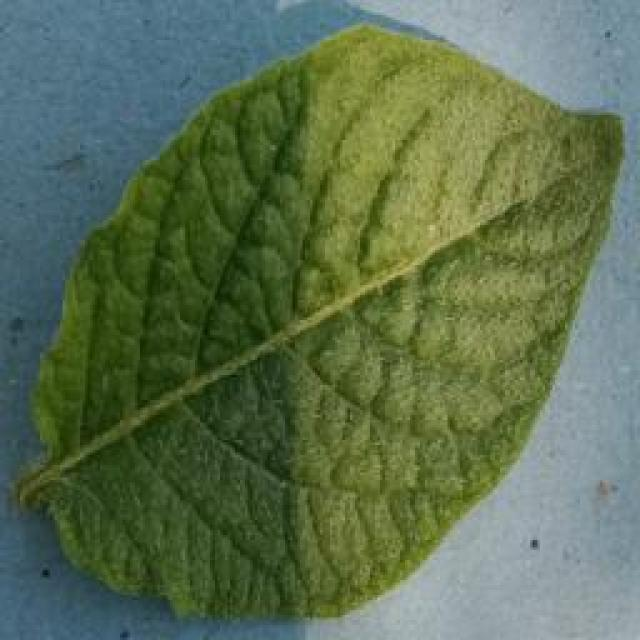Potato_Healthy: (4, 6, 636, 634)
